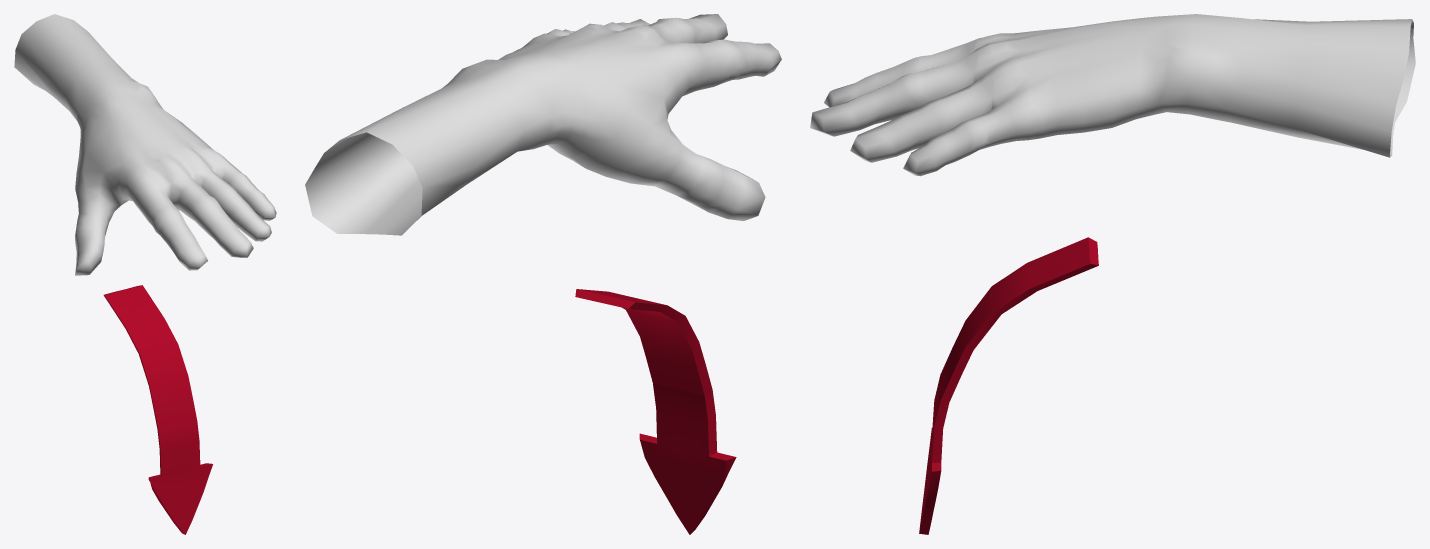
Rendered from IconPlace.fbx.
3 renders of one model, left to right at view 1: azimuth 30°, elevation 25°; view 2: azimuth 150°, elevation 25°; view 3: azimuth 270°, elevation 25°, orthographic. The views are drawn at different scales.
Parts seen in each view (by area): view 1: feet_hands:hand_man:polySurface1, pCube2; view 2: feet_hands:hand_man:polySurface1, pCube2; view 3: feet_hands:hand_man:polySurface1, pCube2.
Boxes of the visible parts, box(x1,y1,x2,y2) form: feet_hands:hand_man:polySurface1: box(14, 14, 276, 275); pCube2: box(103, 285, 212, 534); feet_hands:hand_man:polySurface1: box(305, 14, 781, 235); pCube2: box(575, 289, 736, 534); feet_hands:hand_man:polySurface1: box(810, 14, 1415, 176); pCube2: box(919, 237, 1098, 534).
Bounding box in the file's own units: 6.6 × 14.27 × 14.54.
